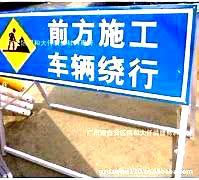sign: (1, 12, 196, 101)
